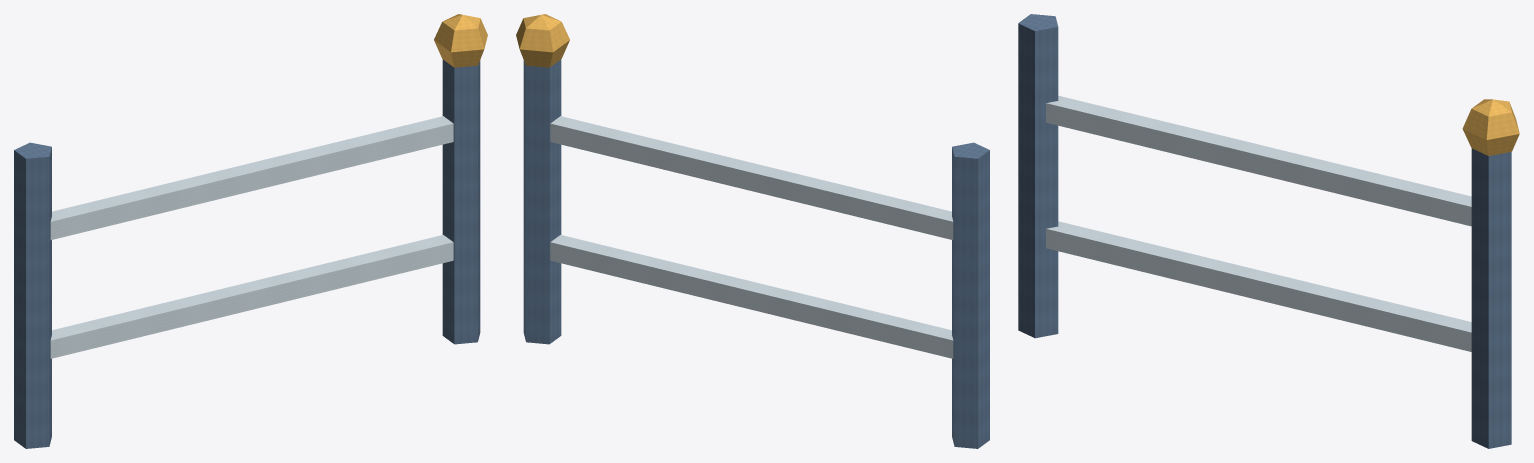
File: atlas100-polar-util04.lod1.glb
3 views of the same model, side by side, from view 1: azimuth 30°, elevation 25°; view 2: azimuth 150°, elevation 25°; view 3: azimuth 330°, elevation 25° (orthographic). The views are drawn at different scales.
Visible parts, largest first — view 1: atlas100-polar-util04:part-005, atlas100-polar-util04:part-004, atlas100-polar-util04:part-000, atlas100-polar-util04:part-002, atlas100-polar-util04:part-003; view 2: atlas100-polar-util04:part-005, atlas100-polar-util04:part-004, atlas100-polar-util04:part-000, atlas100-polar-util04:part-002, atlas100-polar-util04:part-003; view 3: atlas100-polar-util04:part-005, atlas100-polar-util04:part-004, atlas100-polar-util04:part-000, atlas100-polar-util04:part-002, atlas100-polar-util04:part-003.
Part boxes in pixels (x1,y1,x2,y2): atlas100-polar-util04:part-005: (50,116,453,239); atlas100-polar-util04:part-004: (50,235,453,358); atlas100-polar-util04:part-000: (14,142,51,448); atlas100-polar-util04:part-002: (442,59,480,344); atlas100-polar-util04:part-003: (434,14,487,67); atlas100-polar-util04:part-005: (550,116,953,239); atlas100-polar-util04:part-004: (550,235,953,358); atlas100-polar-util04:part-000: (952,142,989,448); atlas100-polar-util04:part-002: (523,59,561,344); atlas100-polar-util04:part-003: (516,14,569,67); atlas100-polar-util04:part-005: (1046,95,1471,226); atlas100-polar-util04:part-004: (1046,221,1471,351); atlas100-polar-util04:part-000: (1018,14,1058,338); atlas100-polar-util04:part-002: (1471,148,1511,448); atlas100-polar-util04:part-003: (1462,99,1519,155).
Size of the model in its own units: 1.94 by 1.28 by 0.199.
3 materials, 3 textured.
